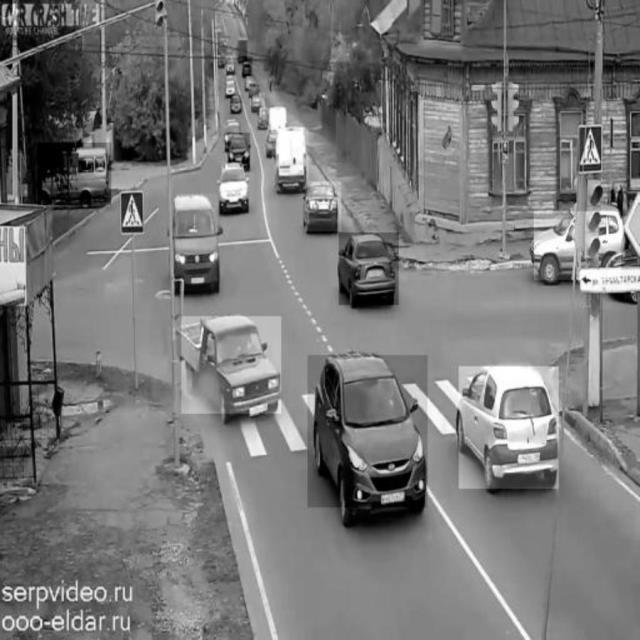vehicle: (307, 355, 428, 507), (459, 366, 559, 488), (181, 317, 281, 415), (534, 211, 622, 279), (38, 143, 111, 205), (173, 194, 218, 292), (339, 233, 399, 305), (277, 129, 309, 195), (305, 182, 341, 232), (222, 161, 248, 207), (227, 132, 251, 168), (250, 93, 265, 113), (243, 57, 253, 79), (224, 54, 234, 74), (230, 95, 242, 111)
